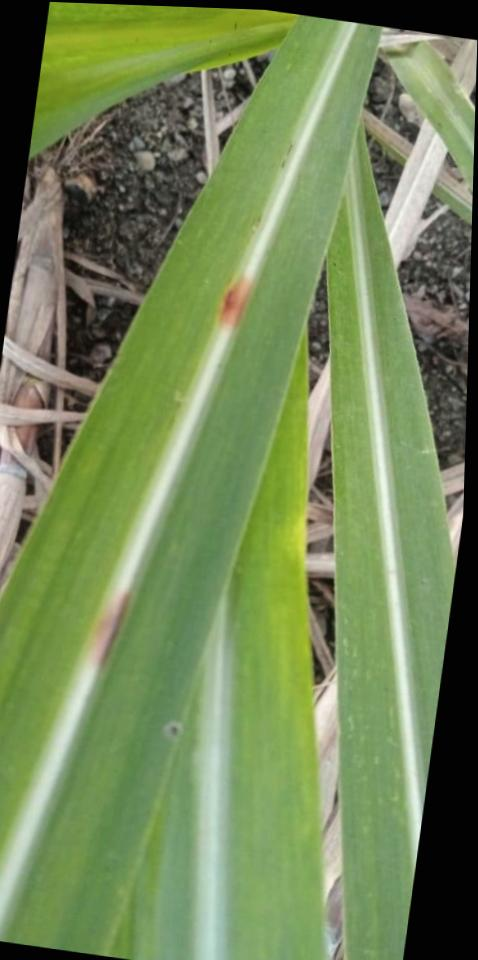RedRot: (81, 582, 135, 679), (211, 265, 258, 336)
